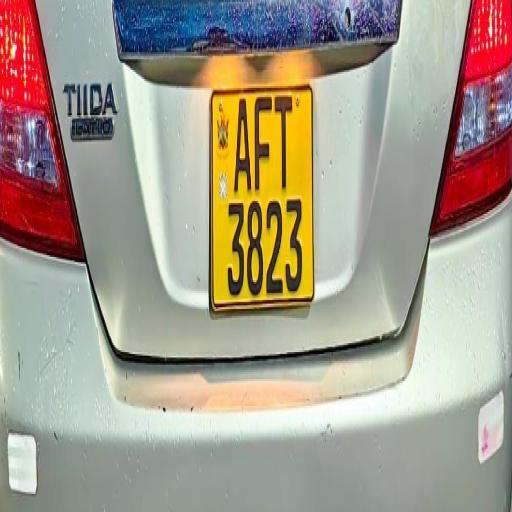number-plates: (213, 94, 310, 293)
